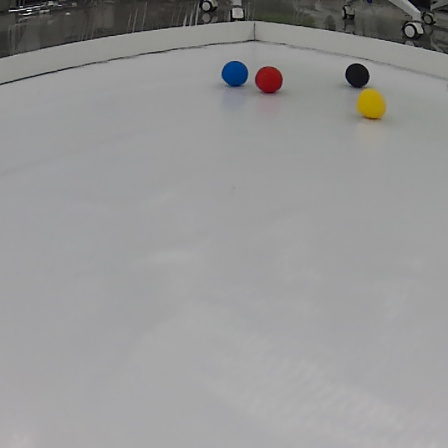black: (343, 63, 371, 89)
blue: (221, 59, 249, 88)
red: (254, 67, 285, 97)
yellow: (357, 88, 388, 121)
